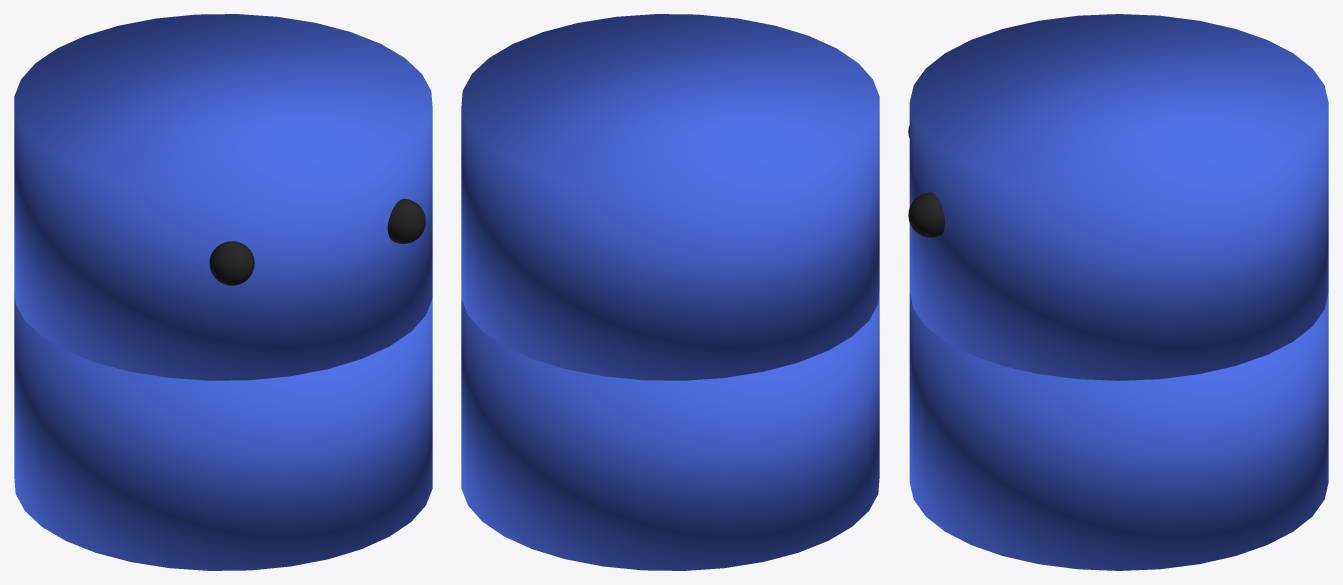
3 views of the same model, side by side, from view 1: azimuth 30°, elevation 25°; view 2: azimuth 150°, elevation 25°; view 3: azimuth 270°, elevation 25° (orthographic).
Parts seen in each view (by area): view 1: 円柱, 球; view 2: 円柱; view 3: 円柱, 球.
Part boxes in pixels (x1,y1,x2,y2): 円柱: (14, 14, 432, 570); 球: (209, 198, 425, 285); 円柱: (461, 14, 879, 570); 円柱: (909, 14, 1328, 570); 球: (908, 125, 944, 237).
Bounding box in the file's own units: 200 × 200 × 201.
